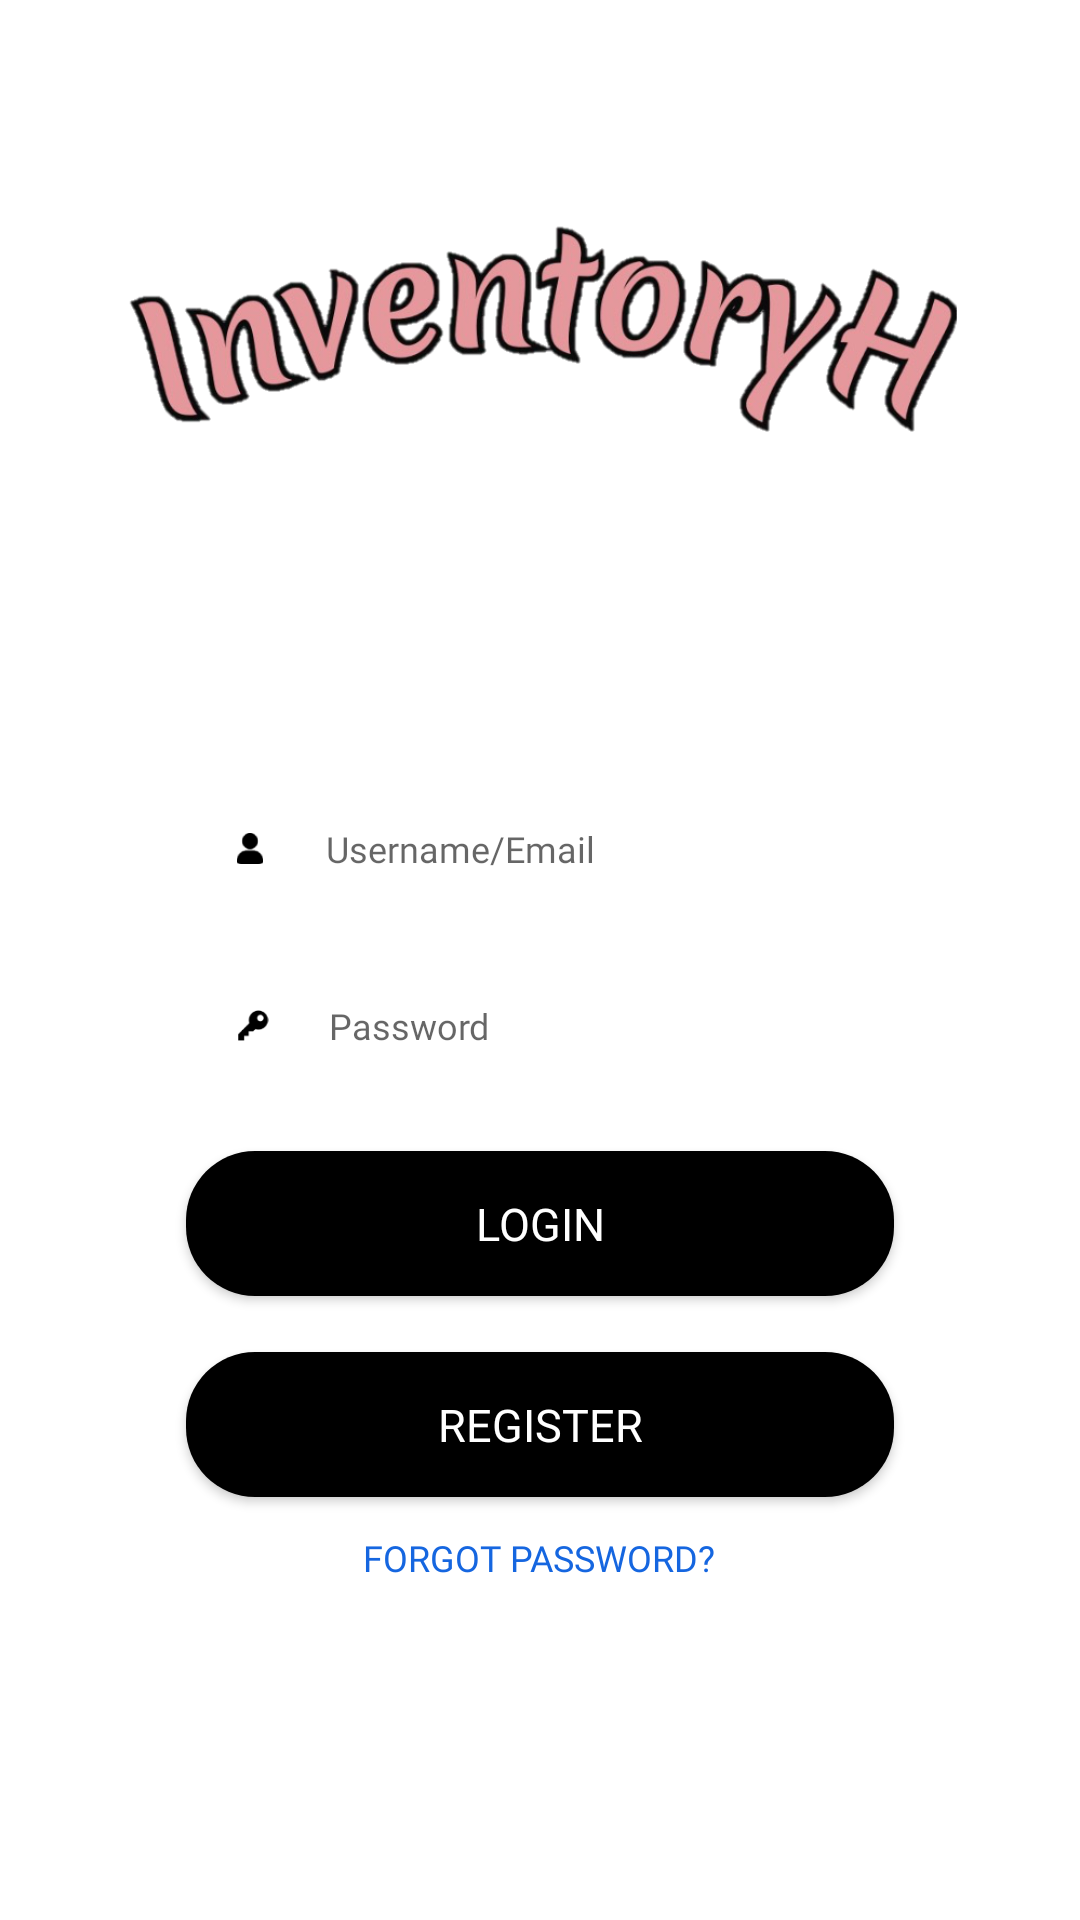

Where to tap for icons on this 1080px x 1920px app screen, as (x=x, y=y):
User Icon: (x=250, y=848)
